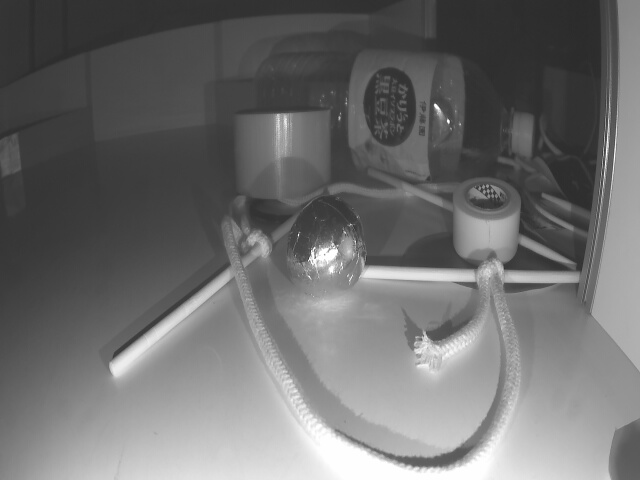Live: (286, 194, 365, 298)
Point: (0, 104, 90, 173), (212, 74, 261, 131)
